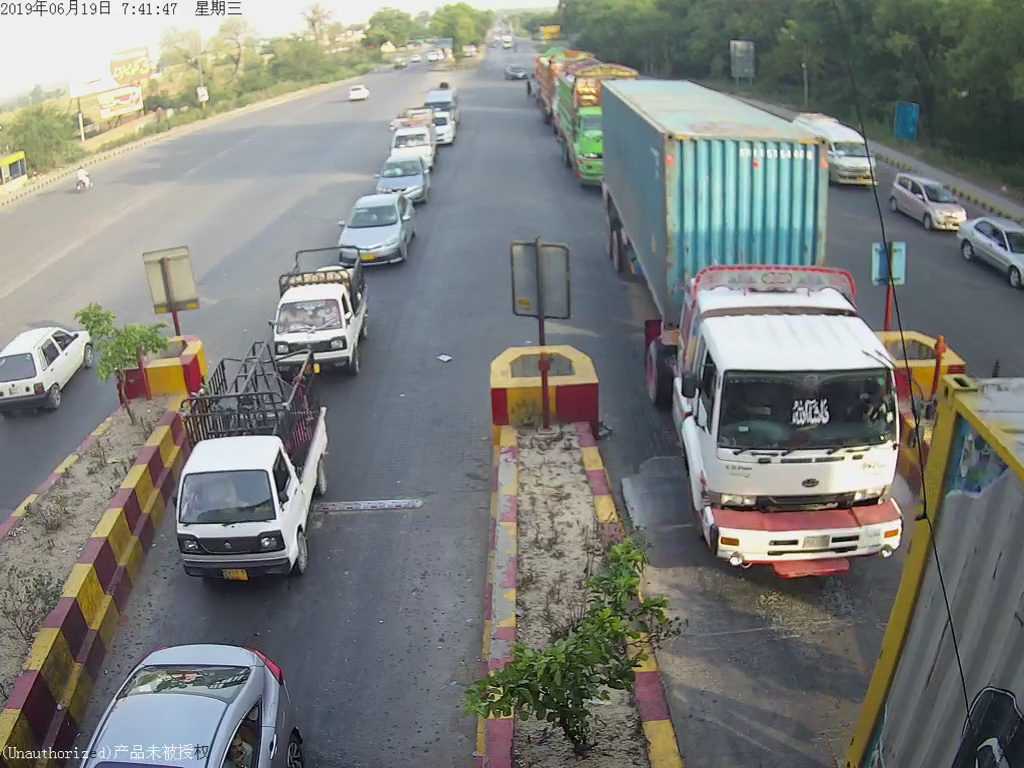Cat-1: (175, 371, 350, 592), (270, 254, 365, 361), (343, 203, 412, 264)
Cat-5: (594, 80, 912, 581)
